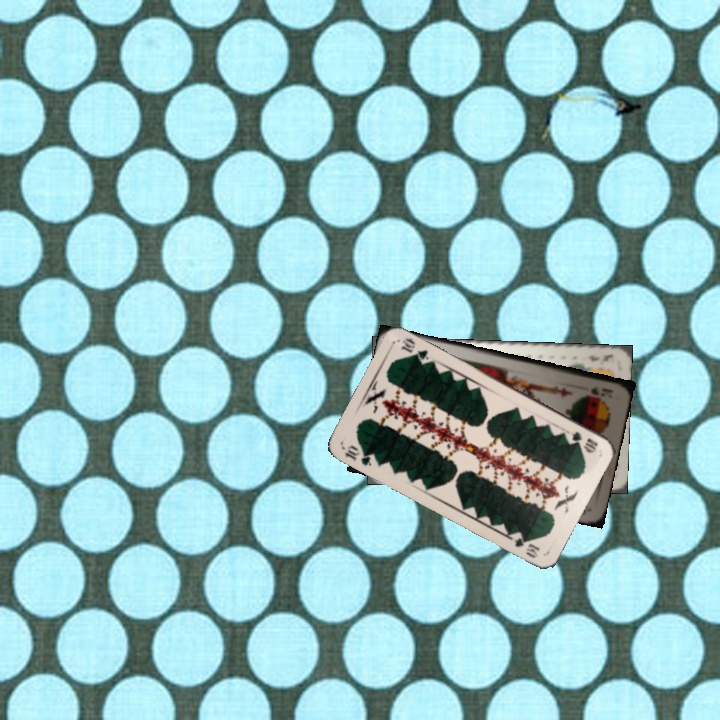EK: (584, 350, 616, 364)
G10: (567, 427, 601, 455), (340, 441, 374, 469)
SK: (587, 382, 616, 399)
